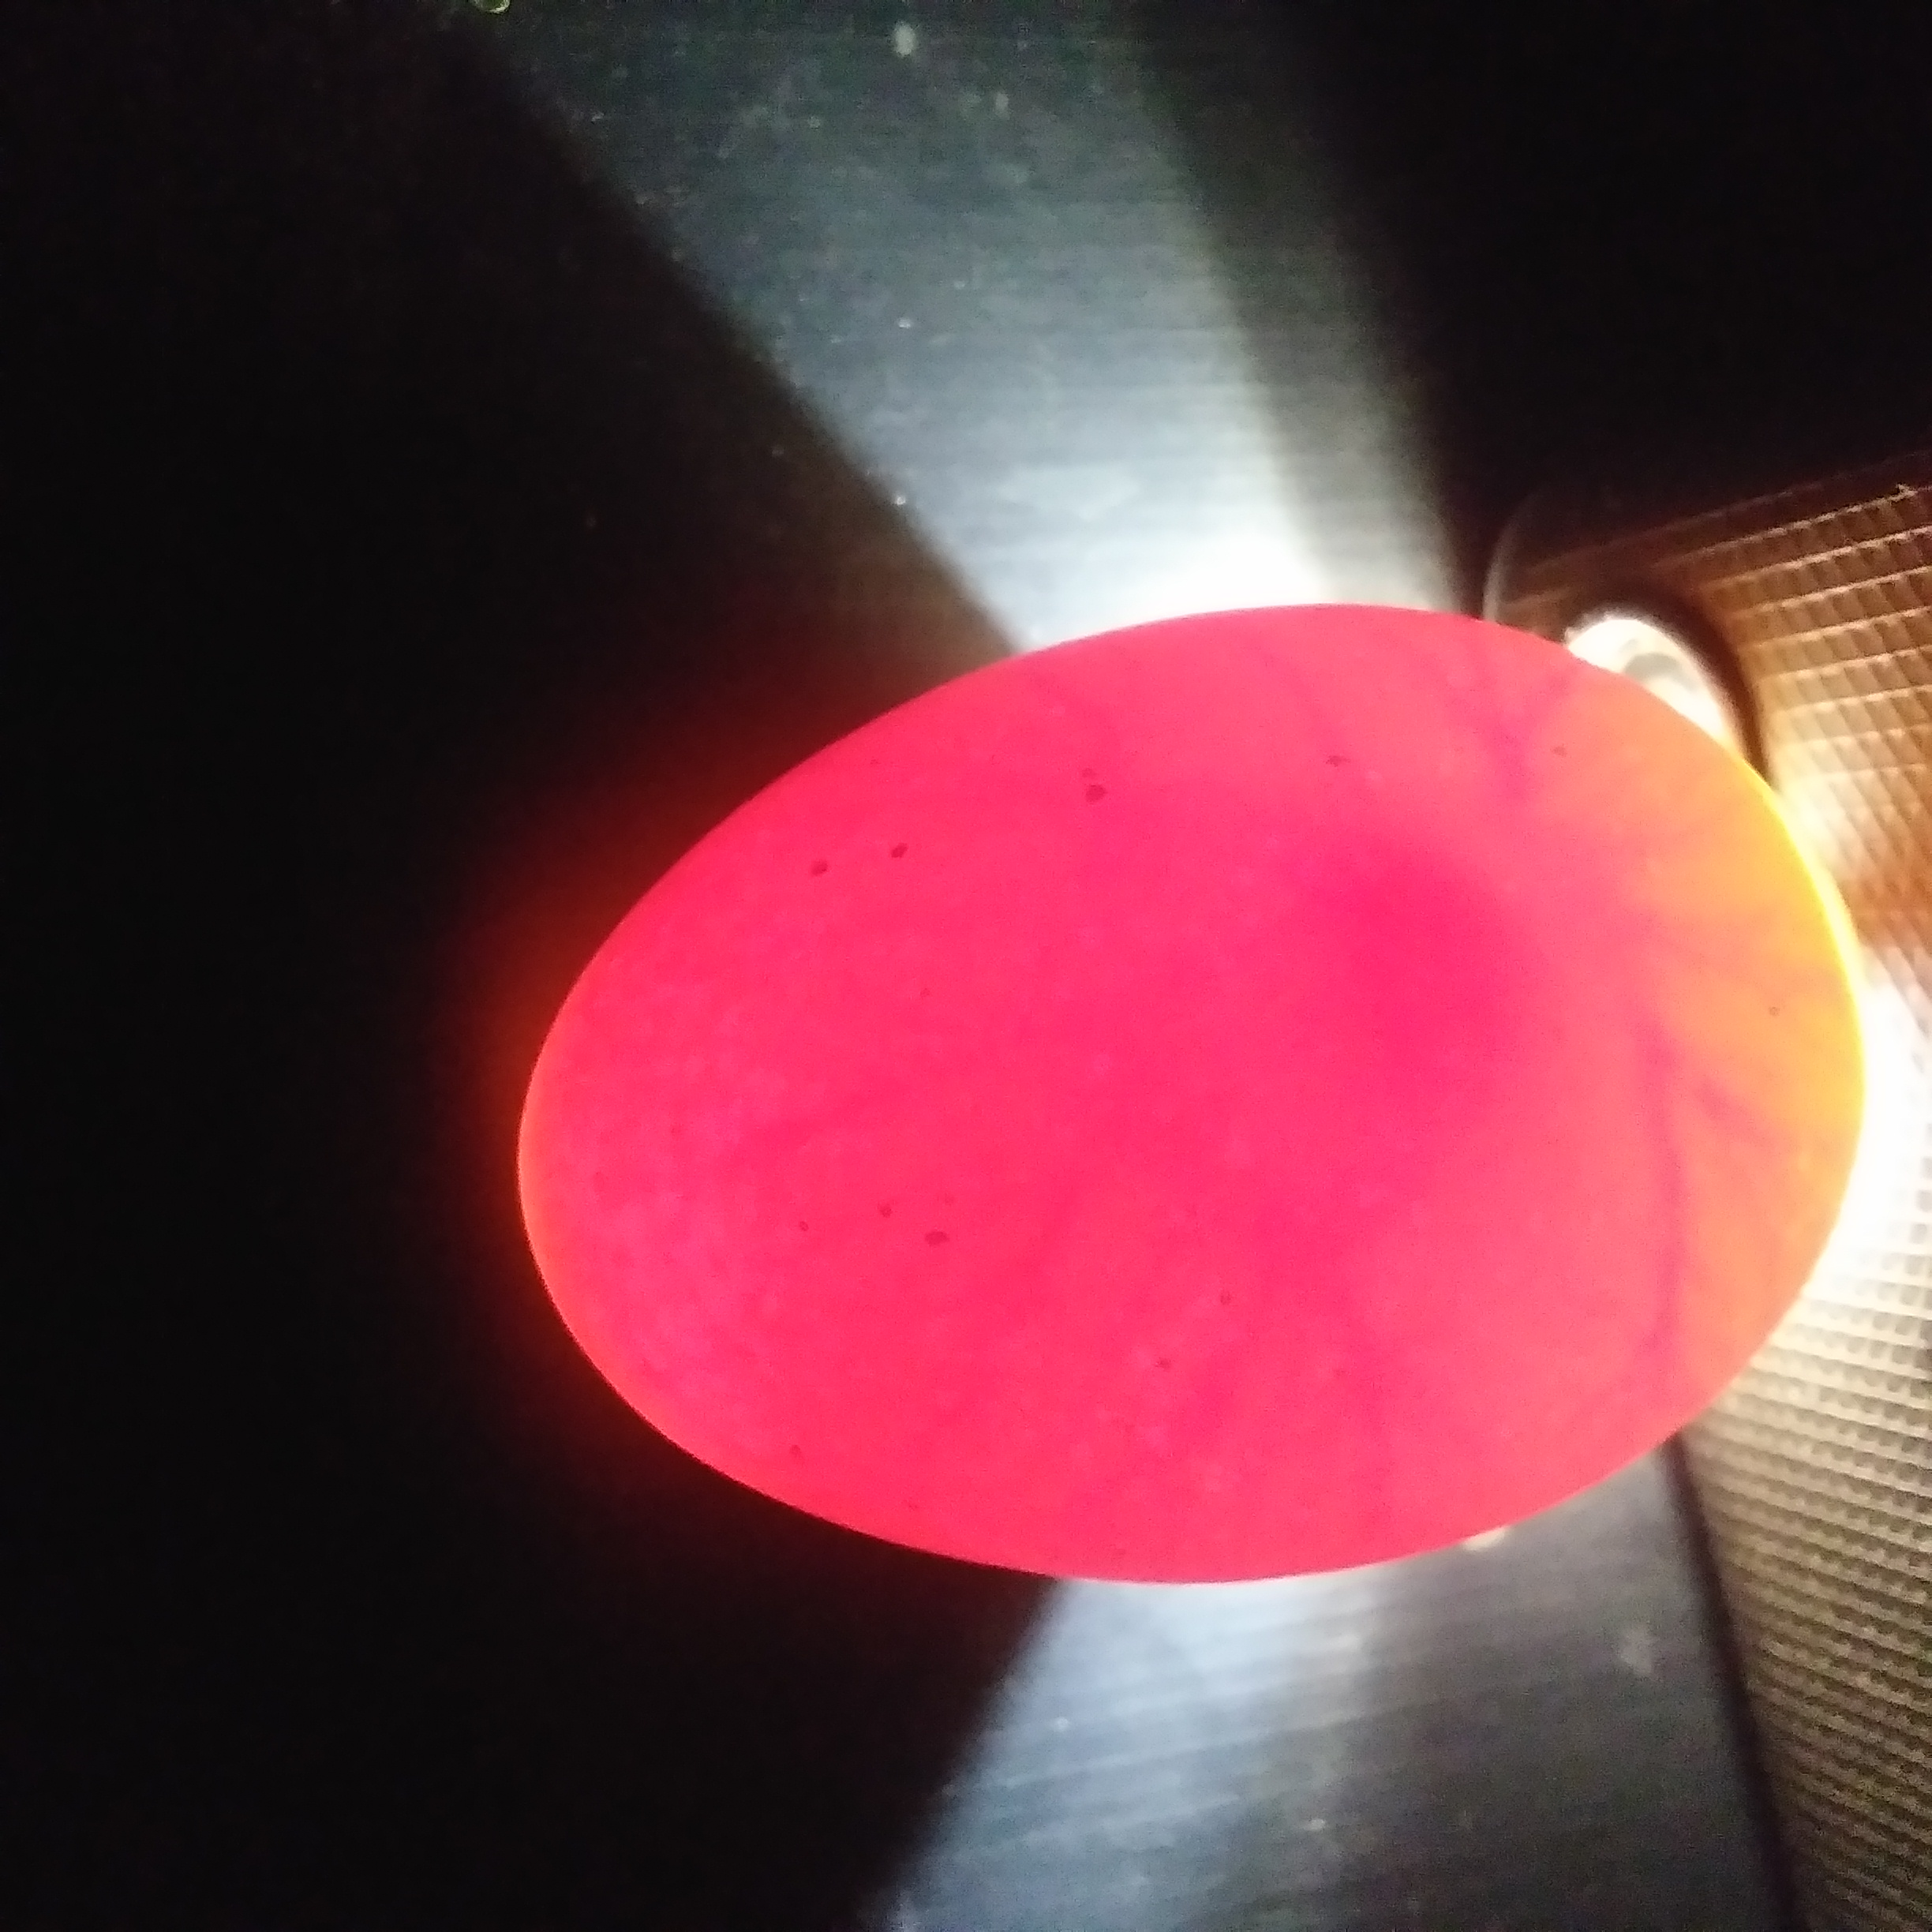bloodcell: (789, 1097, 1440, 1479), (1490, 683, 1743, 1307)
embryo: (1244, 807, 1460, 1054)
